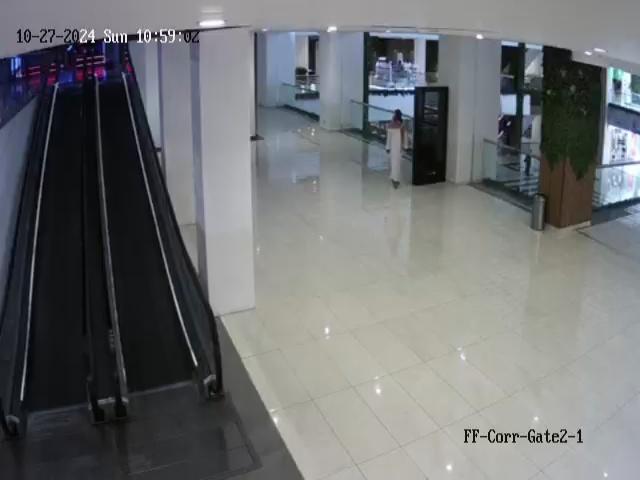male: (380, 106, 413, 192)
